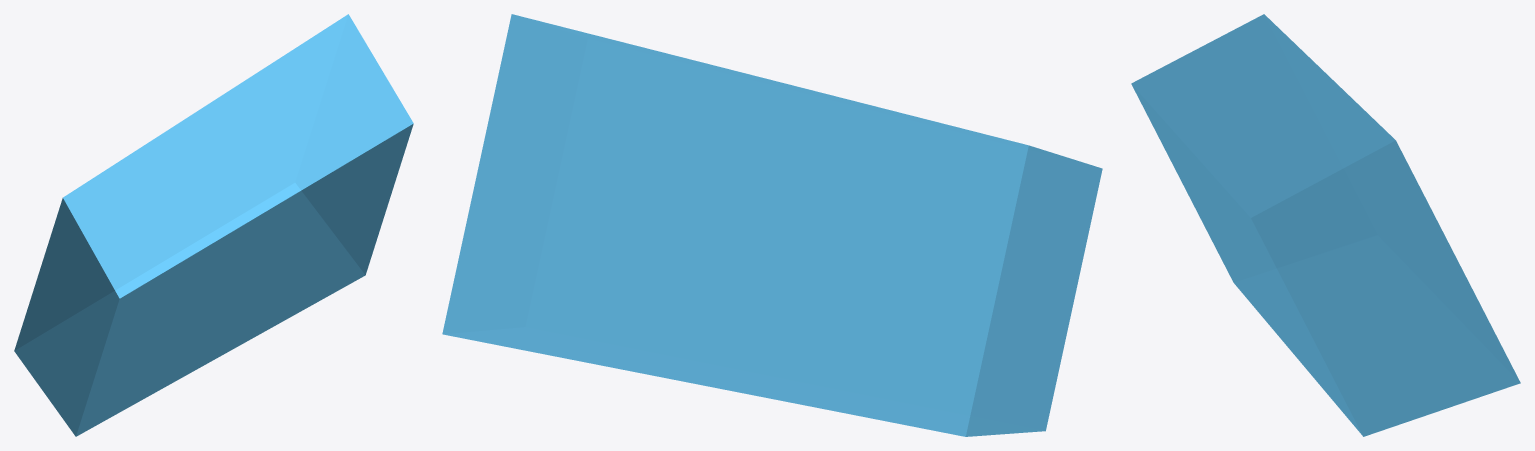
The model's file is Event_420094457_HErechit_35.fbx.
The picture shows the model from 3 angles, left to right: view 1: azimuth 30°, elevation 25°; view 2: azimuth 150°, elevation 25°; view 3: azimuth 270°, elevation 25°; orthographic projection. The views are drawn at different scales.
Parts seen in each view (by area): view 1: Model; view 2: Model; view 3: Model.
Boxes of the visible parts, x1,y1,x2,y2 form: Model: [14, 14, 413, 436]; Model: [442, 14, 1102, 436]; Model: [1131, 14, 1520, 436].
Bounding box in the file's own units: 1.01 × 0.8081 × 0.8454.
